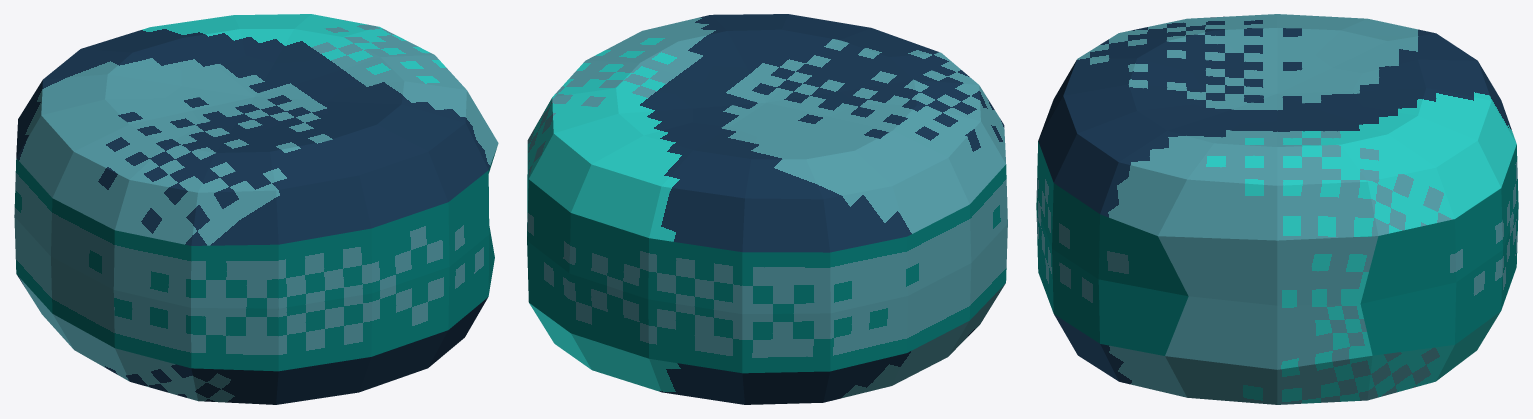
The model's file is oofball_cyan.glb.
The picture shows the model from 3 angles, left to right: view 1: azimuth 30°, elevation 25°; view 2: azimuth 150°, elevation 25°; view 3: azimuth 270°, elevation 25°; orthographic projection. The views are drawn at different scales.
Parts seen in each view (by area): view 1: Cube; view 2: Cube; view 3: Cube.
Boxes of the visible parts, left/top/right/bottom form: Cube: left=14, top=14, right=498, bottom=404; Cube: left=527, top=14, right=1007, bottom=404; Cube: left=1036, top=14, right=1518, bottom=404.
Bounding box in the file's own units: 1.87 × 1.07 × 1.89.
Materials: 1 (1 with a texture image).
